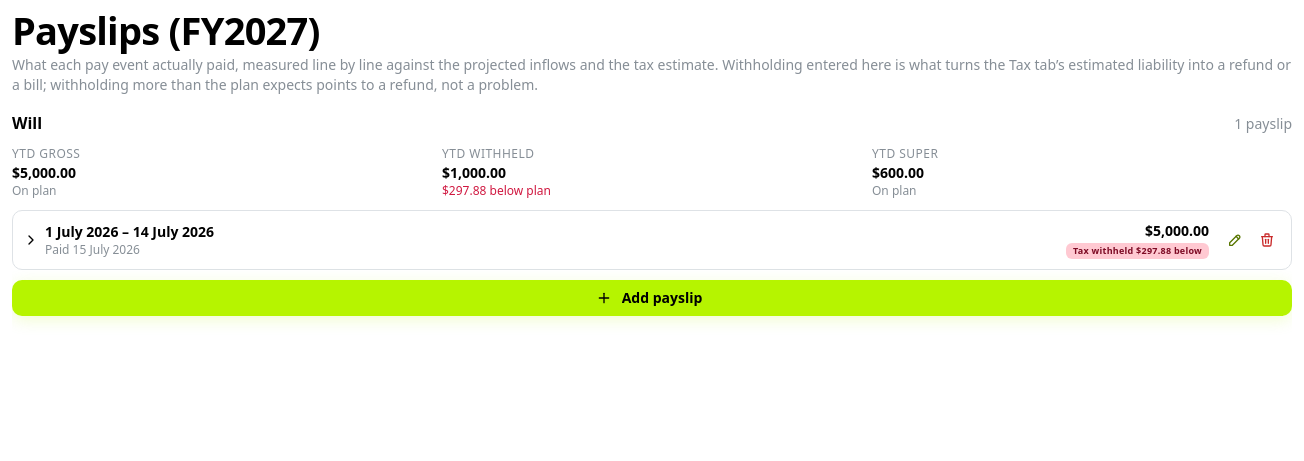
Scenario: PayslipsScreen › keeps a slip’s figures and breakdowns behind its toggle until it is expanded
Expected: the text "Net" is not shown
Expected: the text "Earnings lines" is not shown
Click the button "1 July 2026 – 14 July 2026": (130, 231) left=23, top=221, right=1209, bottom=260
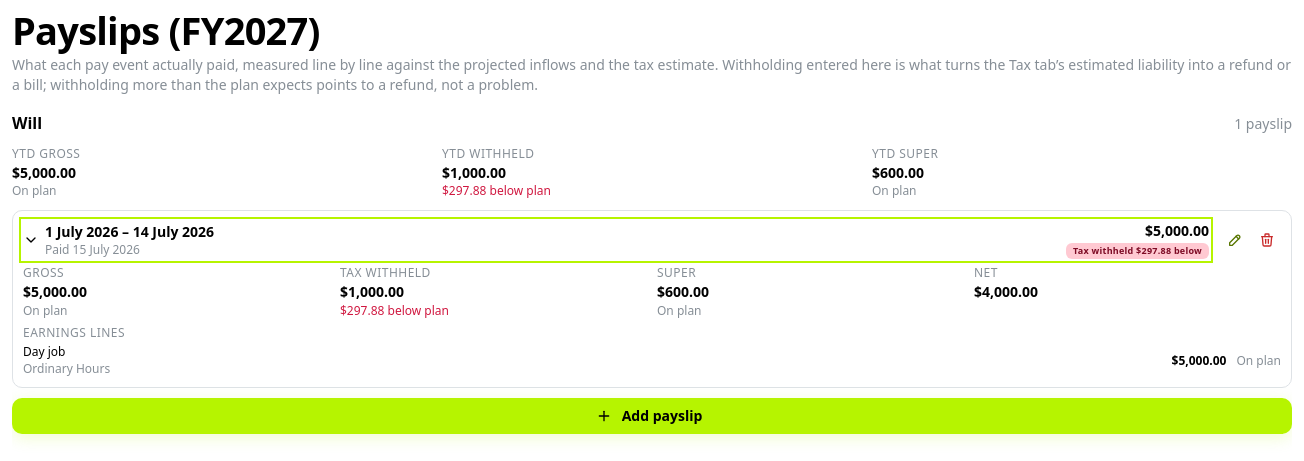
Now the button "1 July 2026 – 14 July 2026" is expanded, box left=23, top=221, right=1209, bottom=260
Now the text "Net" is shown, box left=974, top=266, right=998, bottom=282
Now the text "Earnings lines" is shown, box left=23, top=324, right=125, bottom=341
